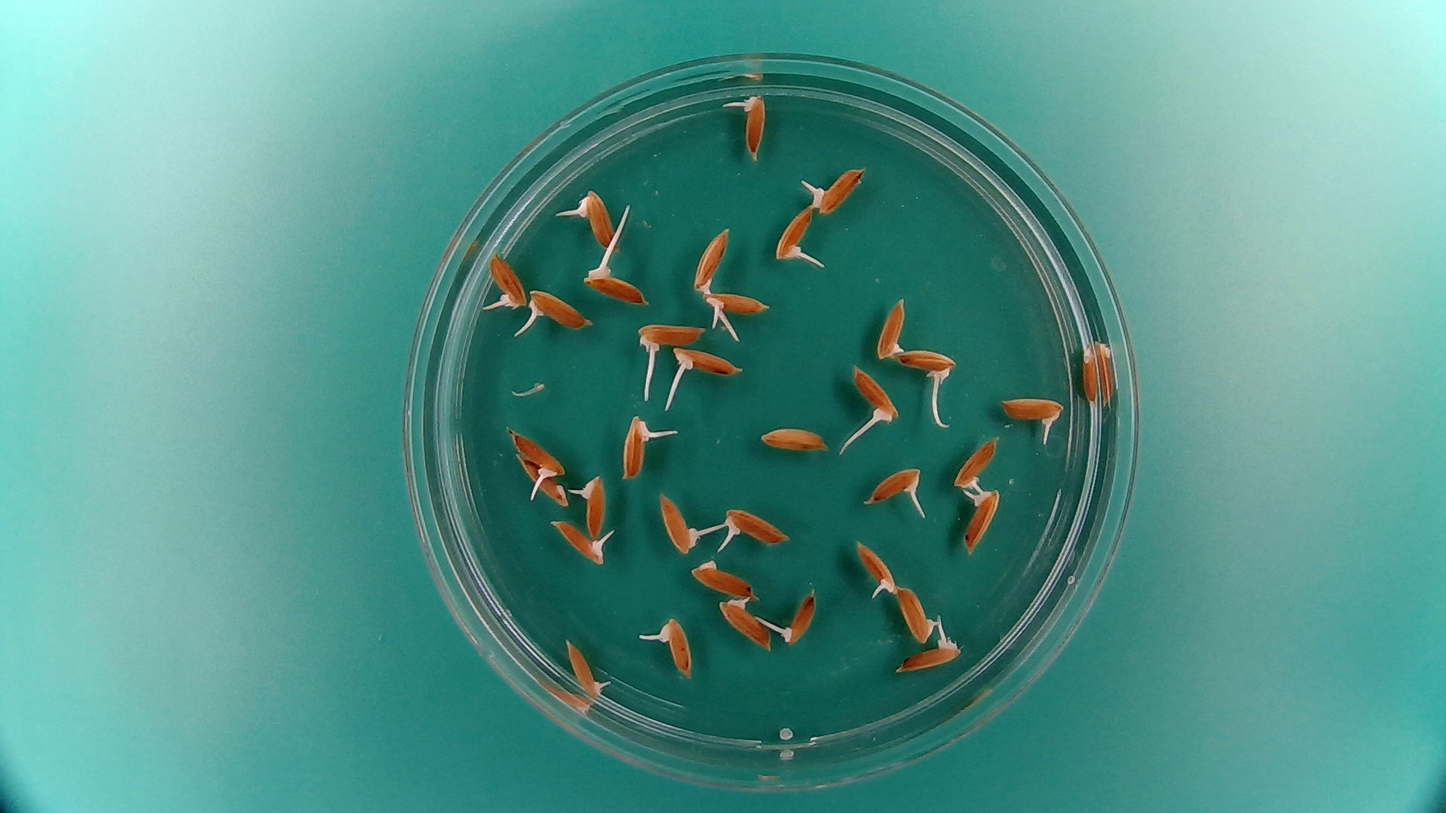no: (513, 452, 570, 507), (895, 584, 938, 647), (688, 557, 757, 596), (755, 422, 831, 456), (873, 294, 909, 362), (1078, 343, 1104, 410)
yes: (505, 425, 569, 480), (848, 361, 901, 427), (548, 517, 612, 568), (656, 489, 704, 557), (582, 262, 656, 306), (718, 594, 773, 653), (959, 483, 1002, 558), (688, 224, 734, 294), (619, 410, 662, 483), (718, 504, 791, 547), (950, 434, 1002, 493), (728, 89, 770, 161), (853, 536, 901, 598), (860, 464, 923, 510), (565, 635, 609, 700), (810, 166, 868, 215), (577, 187, 620, 252), (774, 586, 819, 647), (483, 251, 526, 314), (657, 611, 696, 677), (773, 204, 815, 265), (529, 289, 591, 330), (636, 317, 708, 352), (893, 637, 959, 675), (999, 393, 1066, 430), (673, 346, 747, 379), (896, 343, 955, 382), (576, 471, 609, 538), (702, 291, 774, 318)
